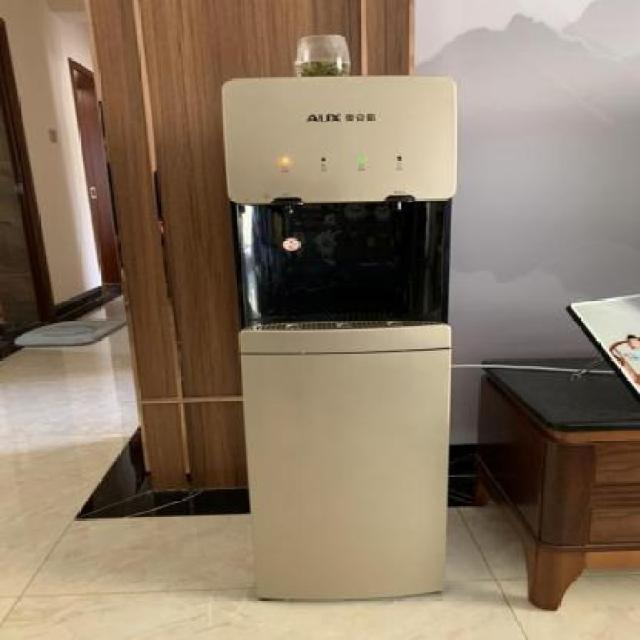cooler: (220, 74, 463, 604)
